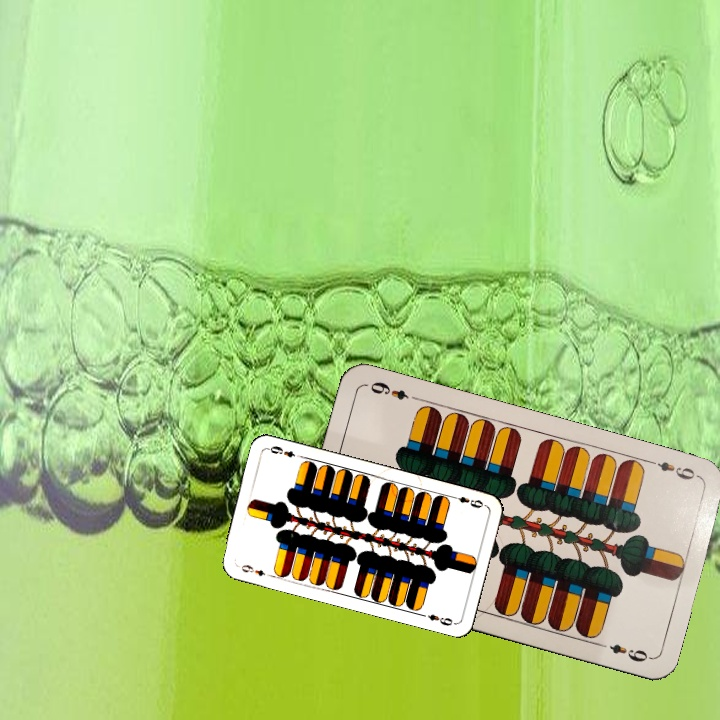E9: (644, 456, 702, 483), (448, 491, 486, 511), (234, 561, 268, 579)
